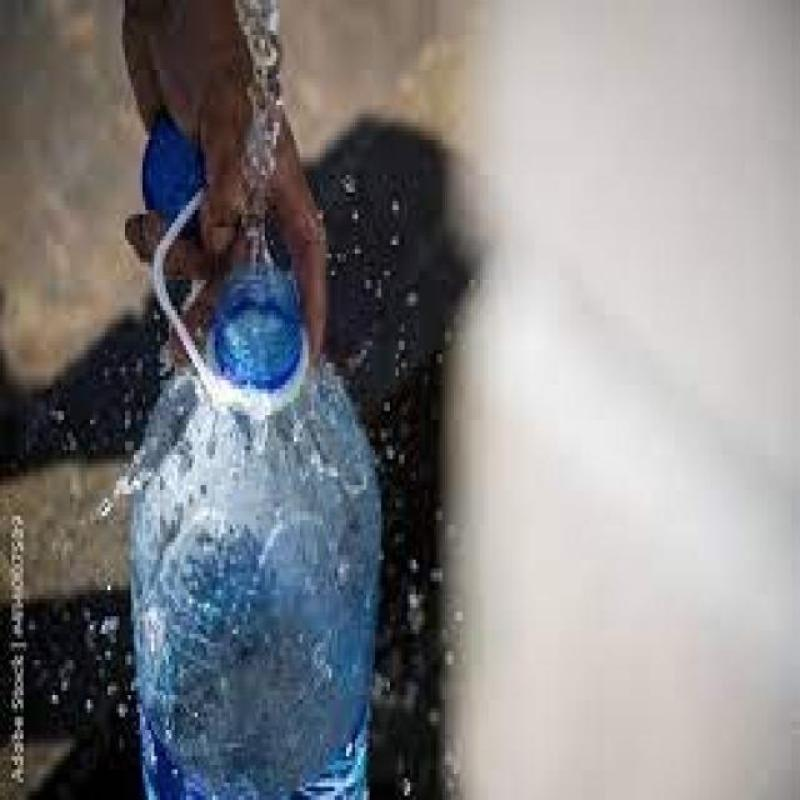botella: (121, 266, 383, 800)
